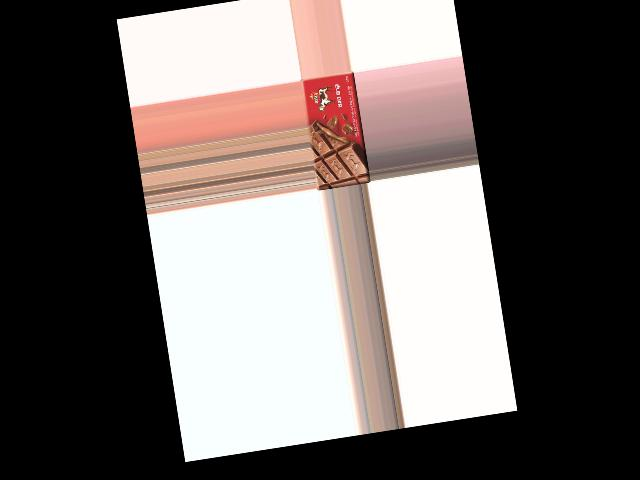chocolate: (300, 70, 369, 189)
